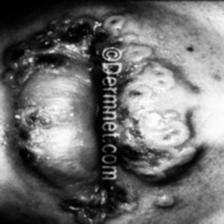Toxin: (122, 49, 186, 193), (16, 83, 60, 171), (52, 197, 174, 224), (24, 17, 102, 55), (4, 43, 33, 84)
